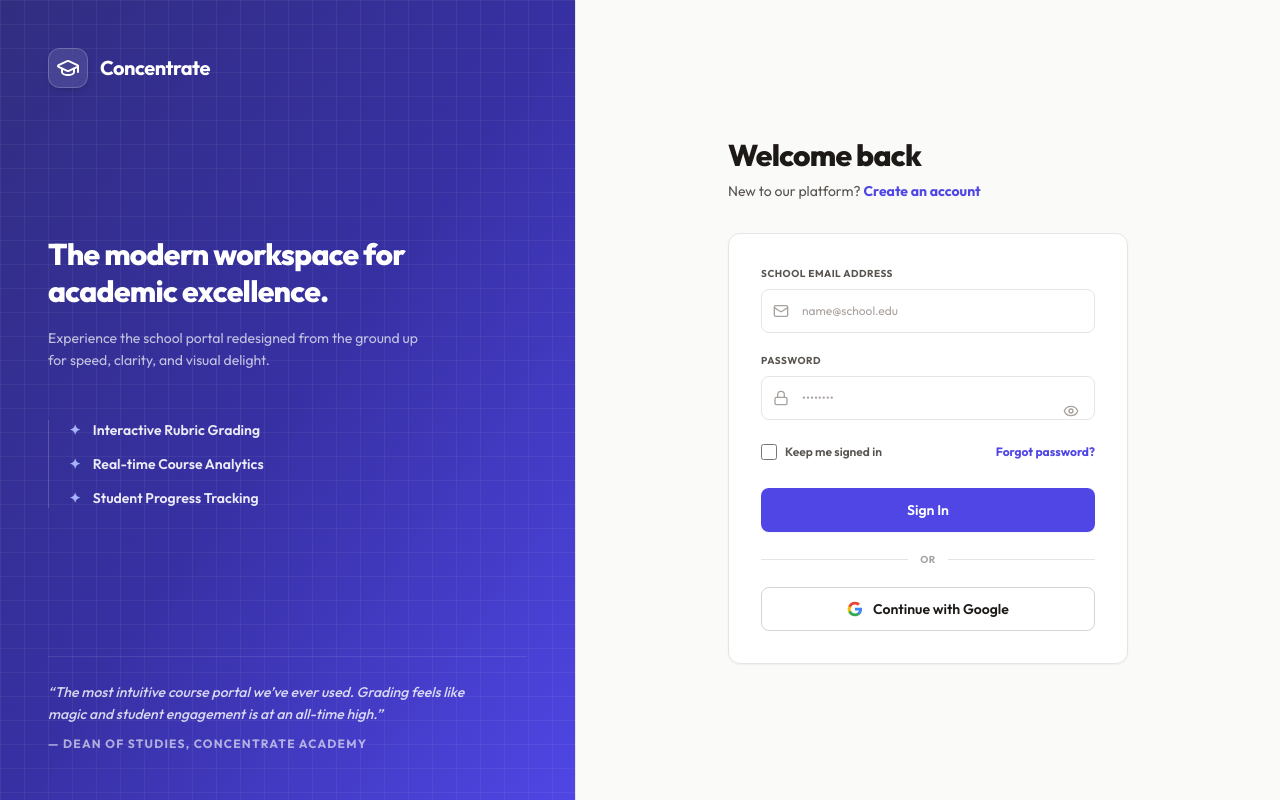
LoginPage › shows an error toast when the API rejects the credentials
Type "student@school.edu" into the field labelled "School Email Address". click: coordinates (928, 310)
box: [761,288,1095,332]
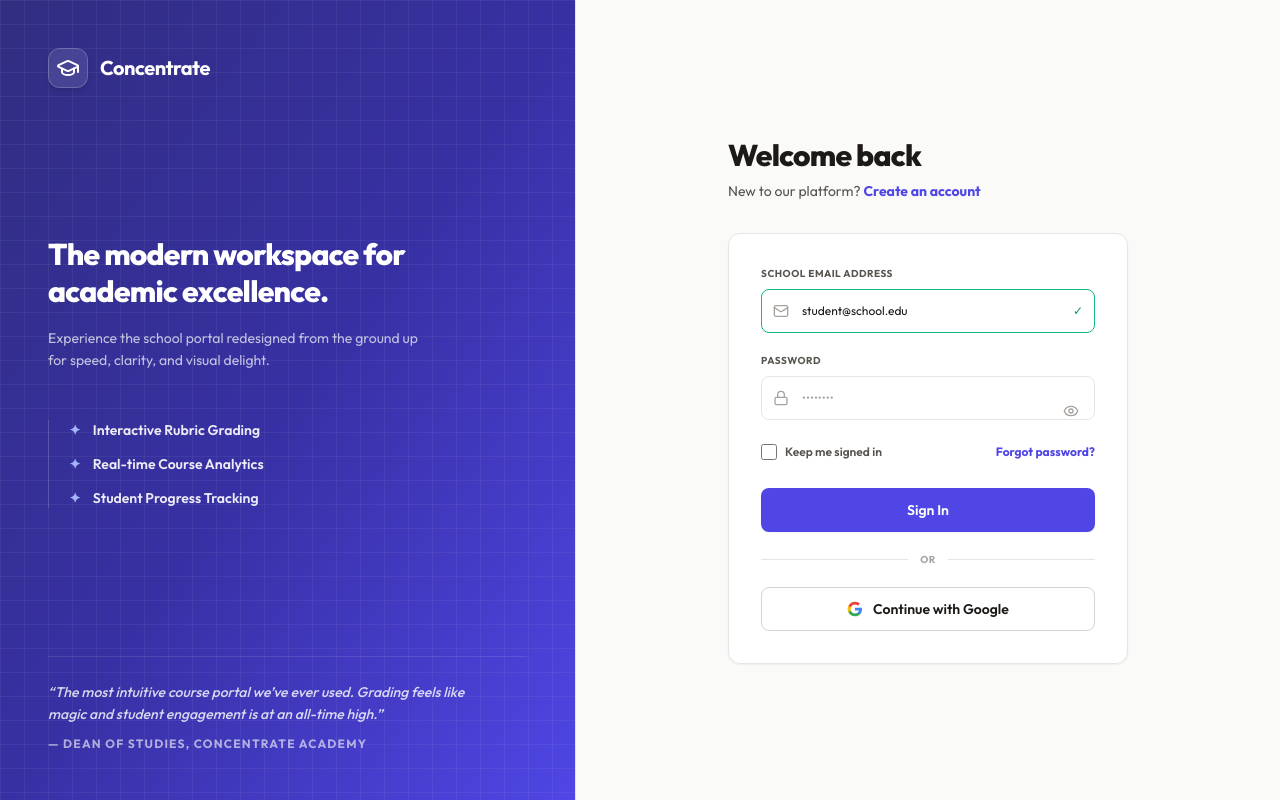
Type "password123" into the password field labelled "Password". click: coordinates (928, 398)
box: [761,376,1095,420]
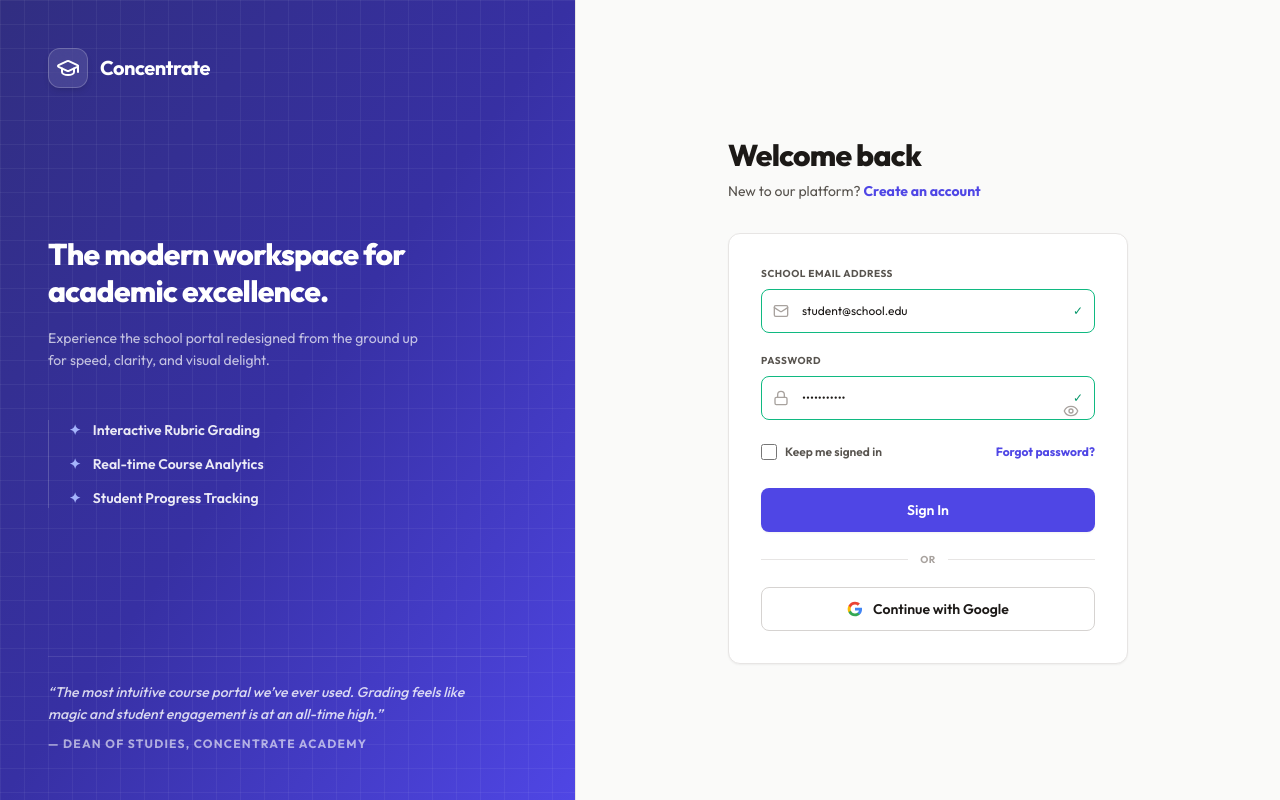
Click the button "Sign In". click: coordinates (928, 510)
box: [761,488,1095,532]
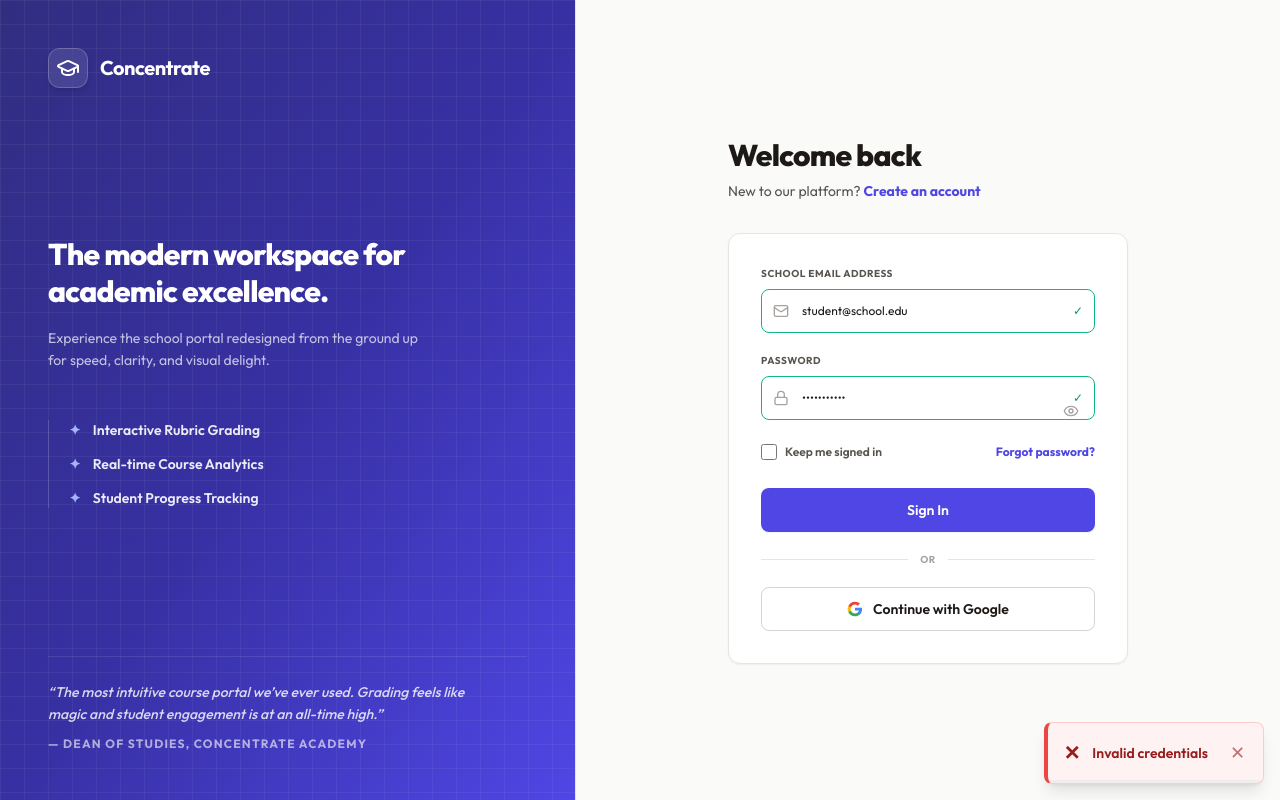
Check: the text "Invalid credentials" is shown, box [1092,743,1216,763]
